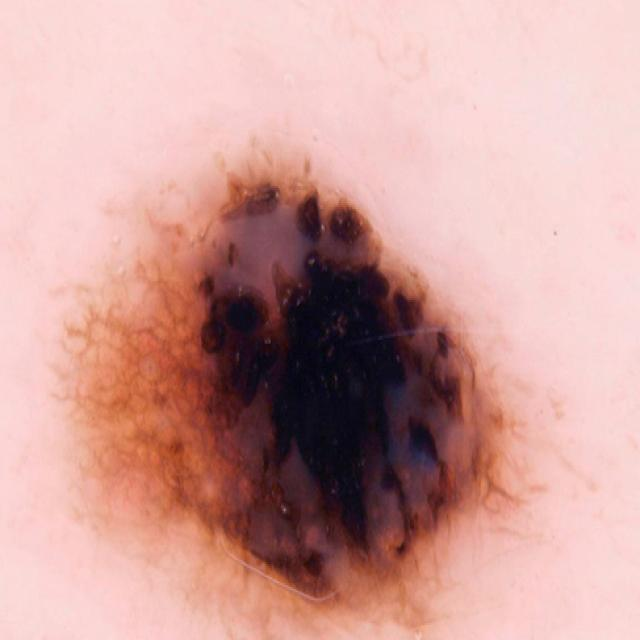Keratosis: (9, 91, 585, 640)
